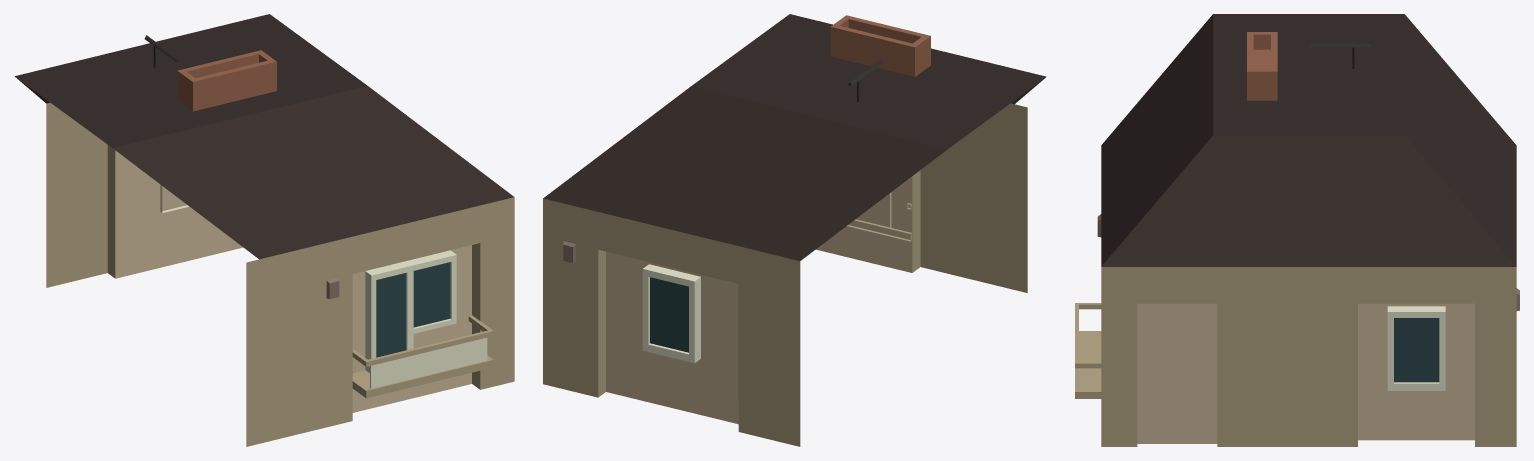
The model's file is apartment_building1_side1_top.fbx.
The picture shows the model from 3 angles, left to right: view 1: azimuth 30°, elevation 25°; view 2: azimuth 150°, elevation 25°; view 3: azimuth 270°, elevation 25°; orthographic projection. The views are drawn at different scales.
Parts seen in each view (by area): view 1: apartment_building1_side1_top; view 2: apartment_building1_side1_top; view 3: apartment_building1_side1_top.
Boxes of the visible parts, left/top/right/bottom form: apartment_building1_side1_top: left=15, top=14, right=514, bottom=446; apartment_building1_side1_top: left=543, top=14, right=1046, bottom=446; apartment_building1_side1_top: left=1075, top=14, right=1519, bottom=446.
Size of the model in its own units: 518 by 438 by 593.
